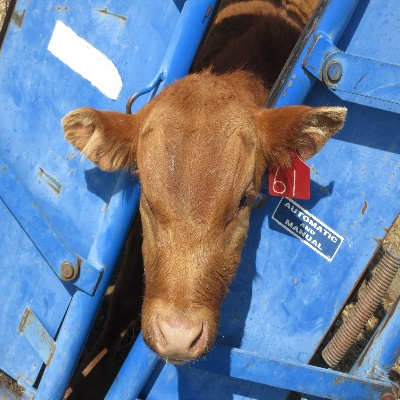fidget_spinner: (142, 310, 213, 359)
